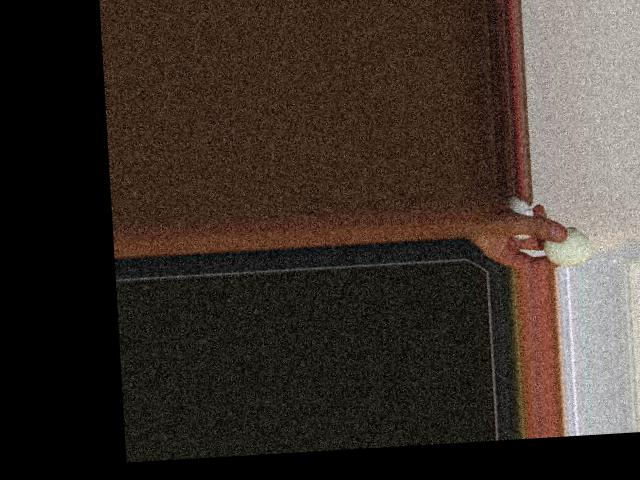egg: (543, 225, 592, 268)
